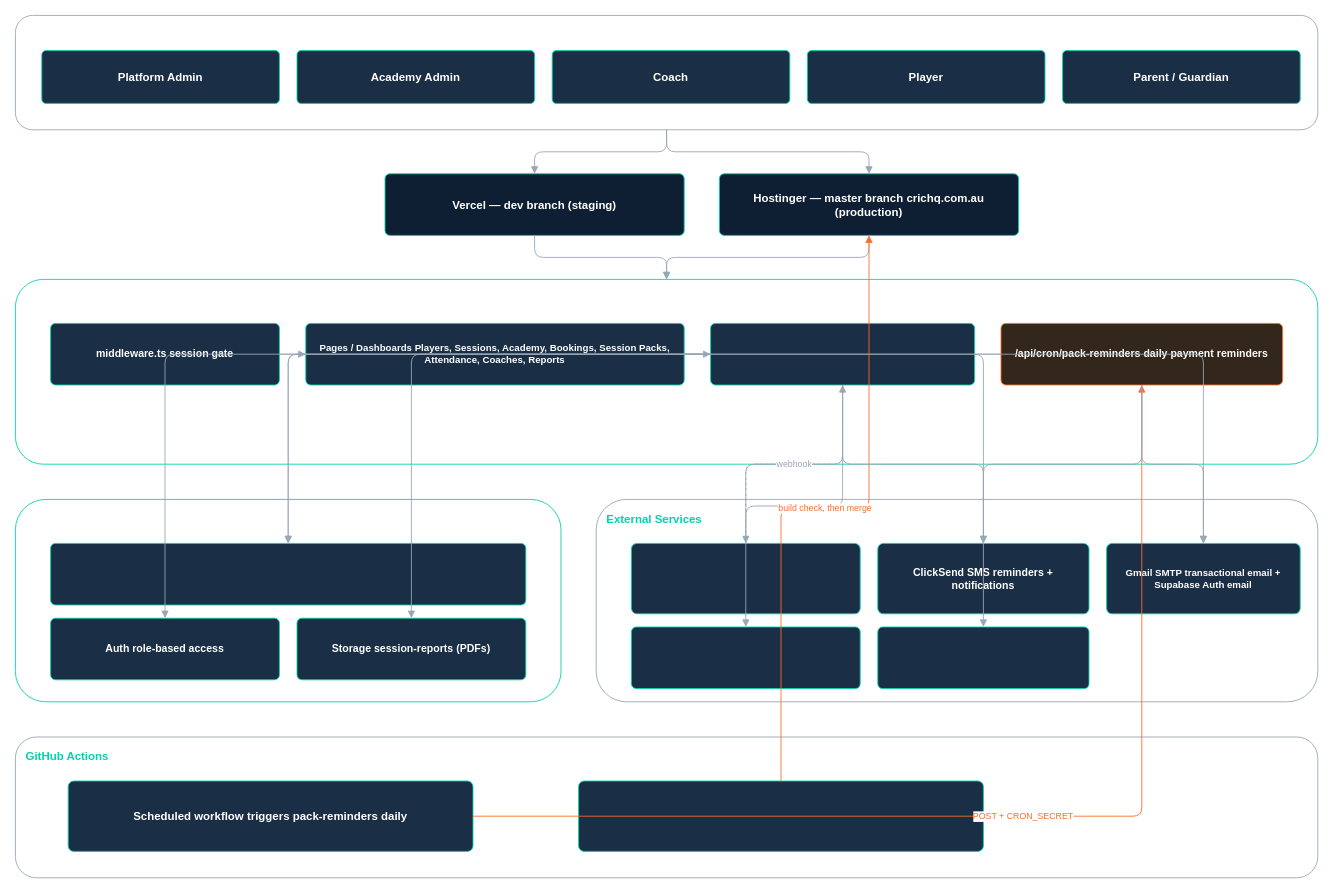
The diagram is 1333 pixels wide and 893 high, and some of its shapes have lost their labels. The box of each missing label's shape, as (x1, y1, x2, y2) in pixels:
Anthropic API AI biomechanics reports, coach chat assistant: (631, 626, 860, 689)
API Routes (server-side, service-role writes): (710, 323, 975, 385)
Client Roles: (15, 15, 1318, 130)
Google Maps API coach discovery / location: (877, 626, 1089, 689)
Next.js 16 App (App Router, TypeScript, Turbopack): (15, 279, 1318, 464)
Postgres academies · players · coaches session_packs · bookings · plans: (50, 543, 526, 605)
Promote dev→master build-then-merge gate: (578, 780, 983, 851)
Stripe + Stripe Connect subscriptions, one-time payments, split payouts: (631, 543, 860, 614)
Supabase: (15, 499, 561, 702)
